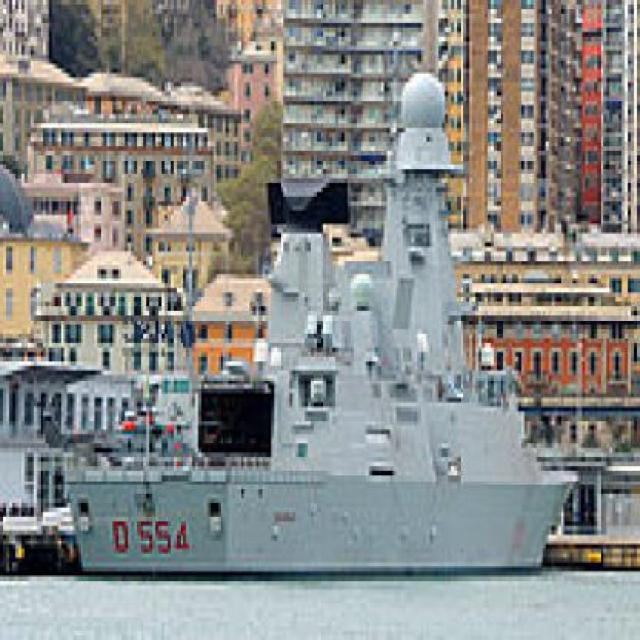warship2: (68, 51, 586, 582)
